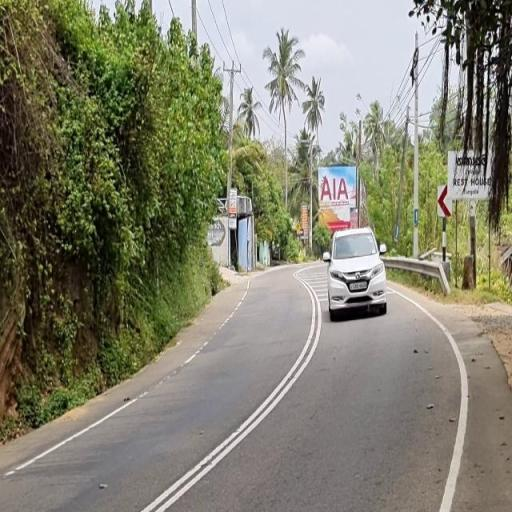double_white_line: (142, 277, 324, 511)
